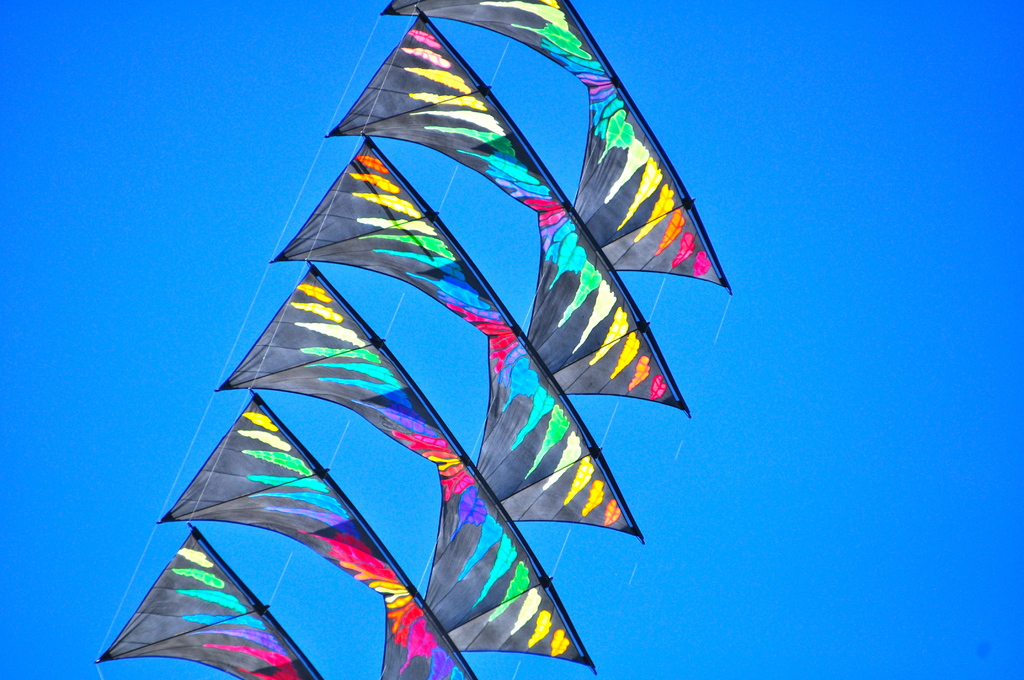kite: (96, 14, 743, 680)
